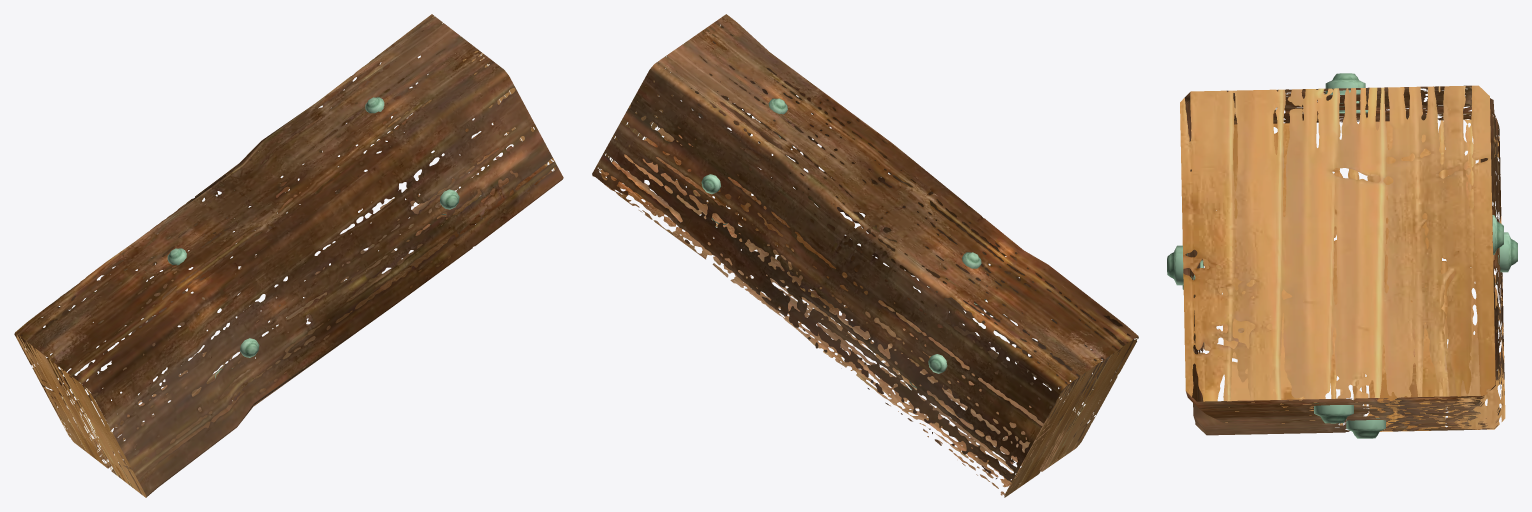
3 renders of one model, left to right at view 1: azimuth 30°, elevation 25°; view 2: azimuth 150°, elevation 25°; view 3: azimuth 270°, elevation 25°, orthographic. The views are drawn at different scales.
Visible parts, largest first — view 1: SM_BB_T4_Beam_Thick_Med_Shallow_LOD0; view 2: SM_BB_T4_Beam_Thick_Med_Shallow_LOD0; view 3: SM_BB_T4_Beam_Thick_Med_Shallow_LOD0.
Boxes of the visible parts, left/top/right/bottom form: SM_BB_T4_Beam_Thick_Med_Shallow_LOD0: left=14, top=14, right=563, bottom=497; SM_BB_T4_Beam_Thick_Med_Shallow_LOD0: left=592, top=14, right=1138, bottom=497; SM_BB_T4_Beam_Thick_Med_Shallow_LOD0: left=1167, top=73, right=1517, bottom=438.
Bounding box in the file's own units: 1.72 × 1.2 × 0.5507.
2 materials, 2 textured.
